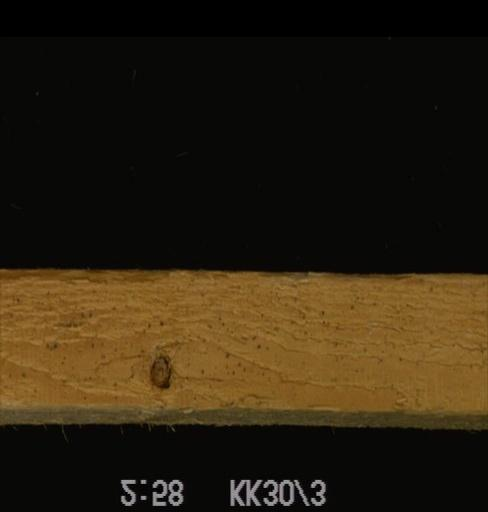wave: (0, 392, 484, 426), (260, 269, 485, 293), (1, 261, 169, 290)
